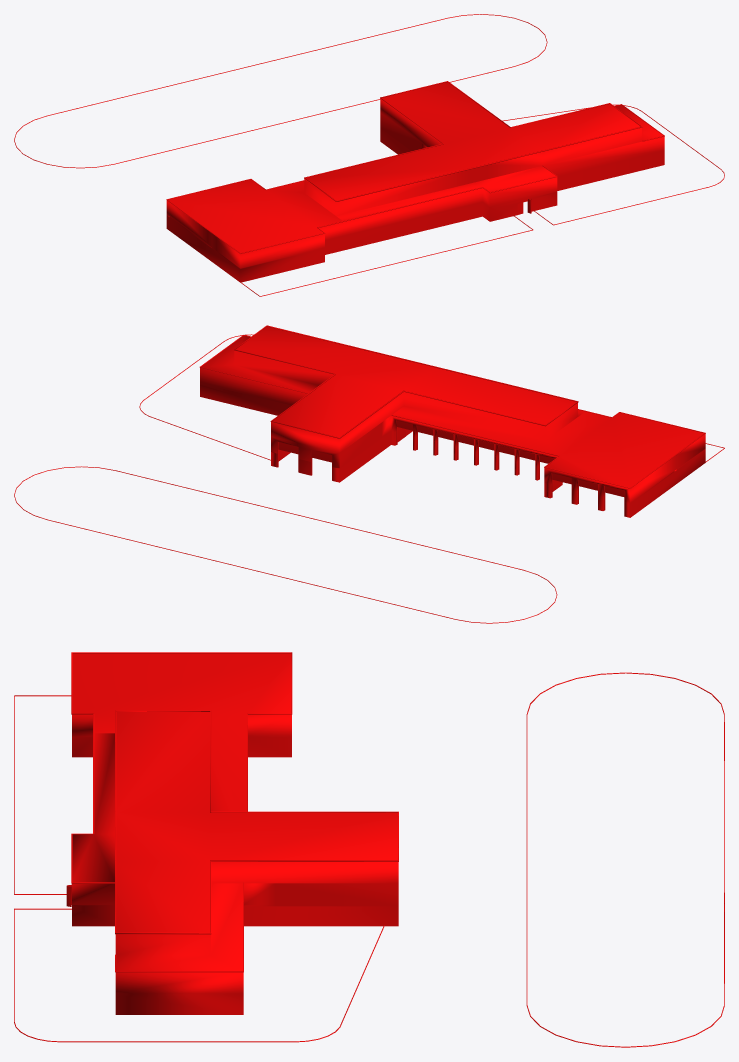
Rendered from colmesh.fbx.
3 renders of one model, top to bottom at view 1: azimuth 30°, elevation 25°; view 2: azimuth 150°, elevation 25°; view 3: azimuth 270°, elevation 25°, orthographic. The views are drawn at different scales.
Visible parts, largest first — view 1: Mesh; view 2: Mesh; view 3: Mesh.
Part boxes in pixels (x1=…): Mesh: x1=14, y1=14, x2=724, y2=296; Mesh: x1=14, y1=325, x2=724, y2=623; Mesh: x1=14, y1=652, x2=724, y2=1047.
Size of the model in its own units: 12539 by 1026 by 10057.
